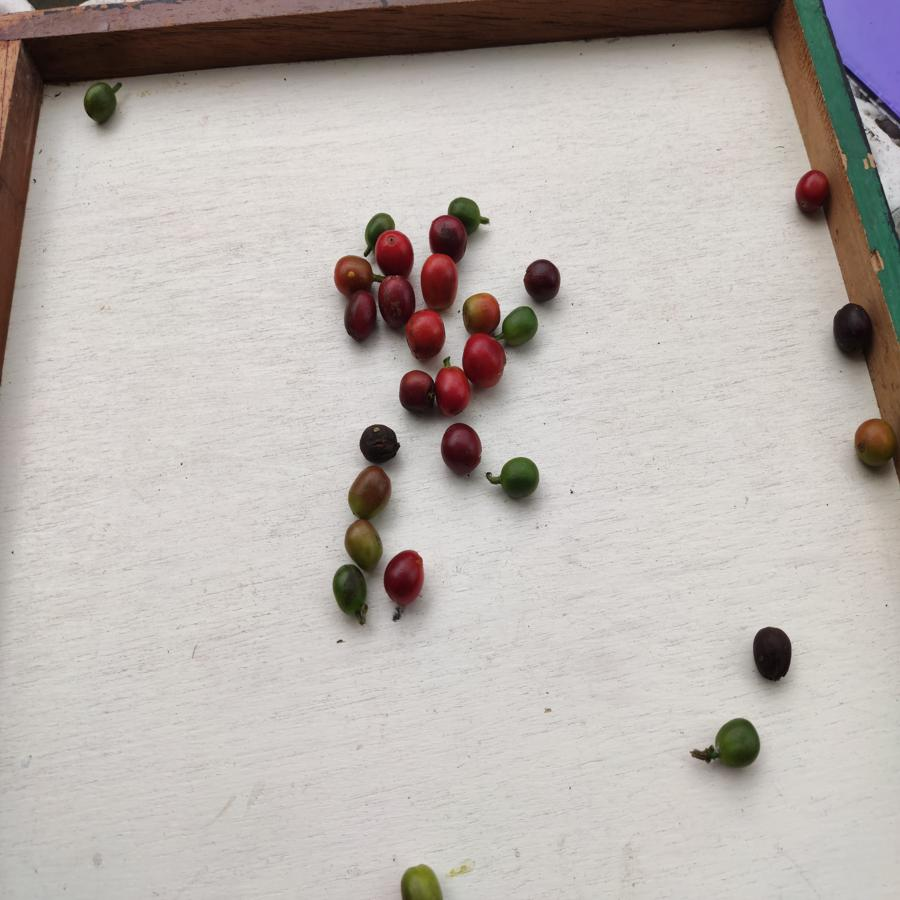Inmaduro: (711, 717, 763, 771), (495, 455, 543, 503), (332, 565, 368, 624), (502, 303, 537, 346), (82, 83, 119, 123), (448, 194, 481, 225), (361, 212, 395, 235)
Maduro: (462, 333, 505, 388), (419, 255, 458, 312), (408, 309, 446, 358), (791, 170, 831, 215), (436, 365, 471, 416), (376, 230, 415, 275)
Pinton: (853, 418, 898, 468), (348, 465, 389, 518), (344, 517, 385, 568), (462, 291, 502, 335), (398, 864, 446, 900), (332, 252, 373, 290)
Sobremaduro: (382, 550, 431, 610), (752, 624, 793, 684), (829, 300, 869, 361), (440, 423, 483, 475), (521, 258, 563, 305), (378, 276, 415, 327), (358, 424, 402, 464), (396, 369, 435, 412), (344, 292, 377, 342), (428, 214, 458, 252)
